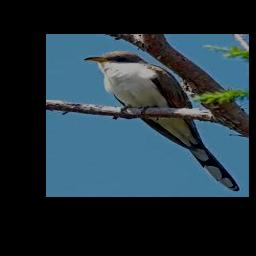Cuckoo: (82, 50, 239, 191)
